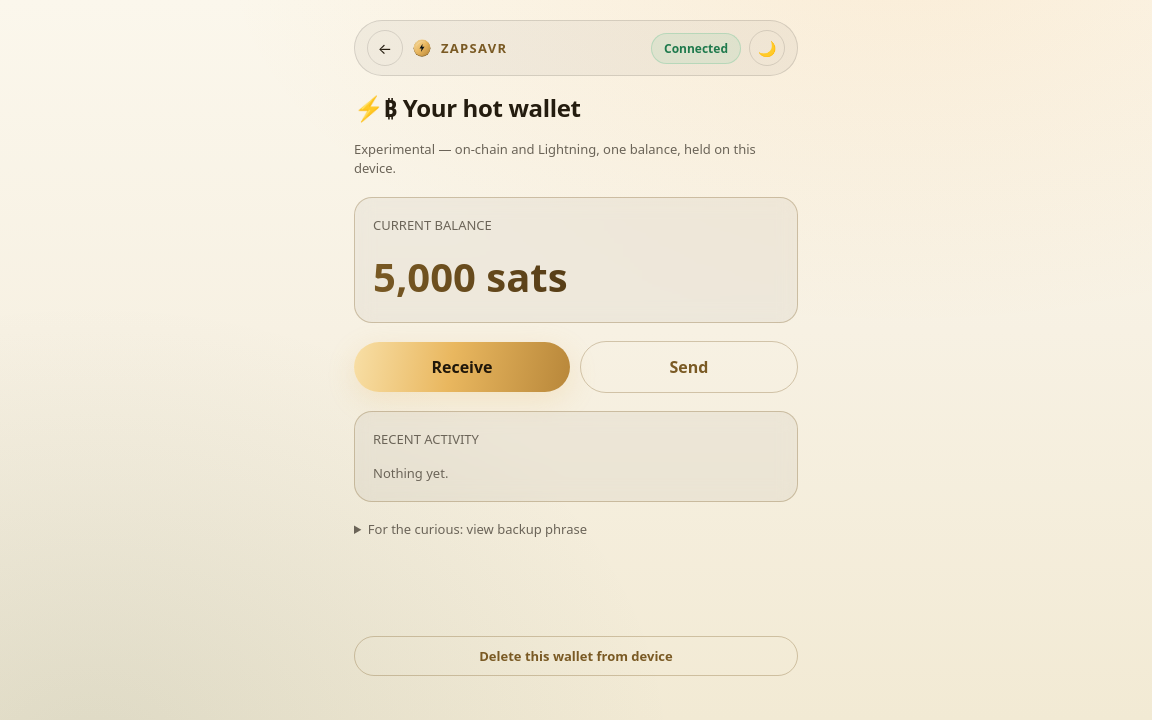
HotWalletDetail — send to a kid › hides the 'send to a kid' option when there are no kids
This screenshot has width=1152, height=720.
Click the button "Send": (689,367) [580,341,798,393]
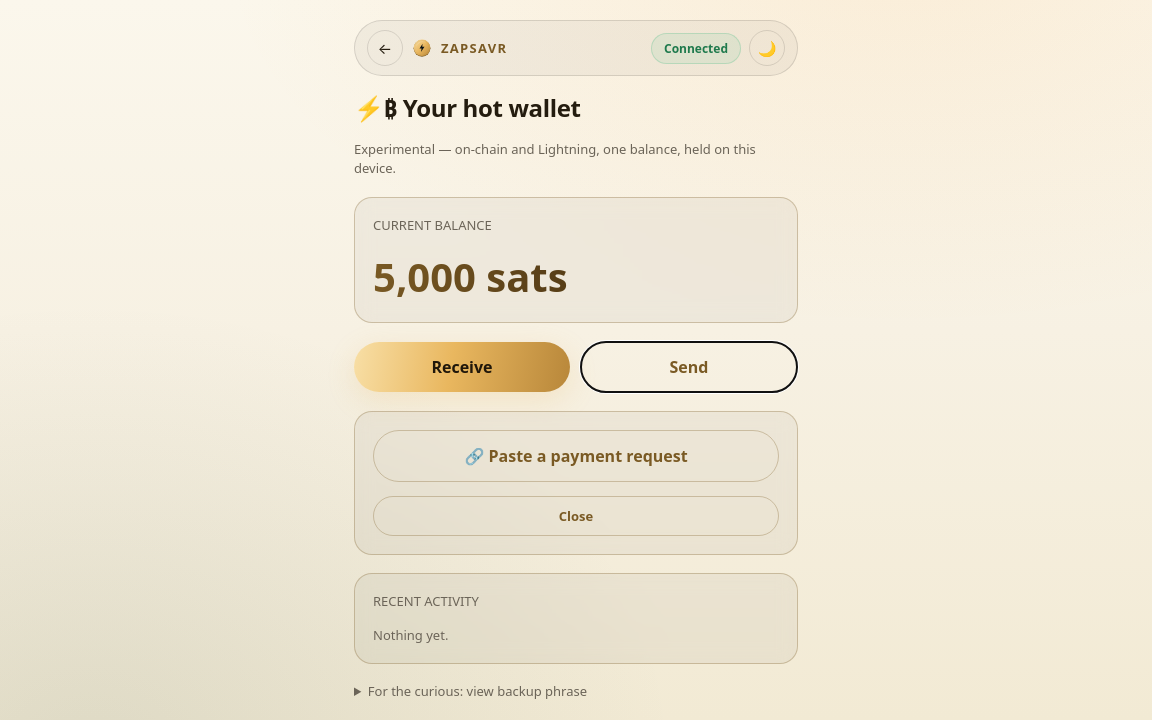
Now the button "🔗 Paste a payment request" is shown, box [373,430,779,482]
